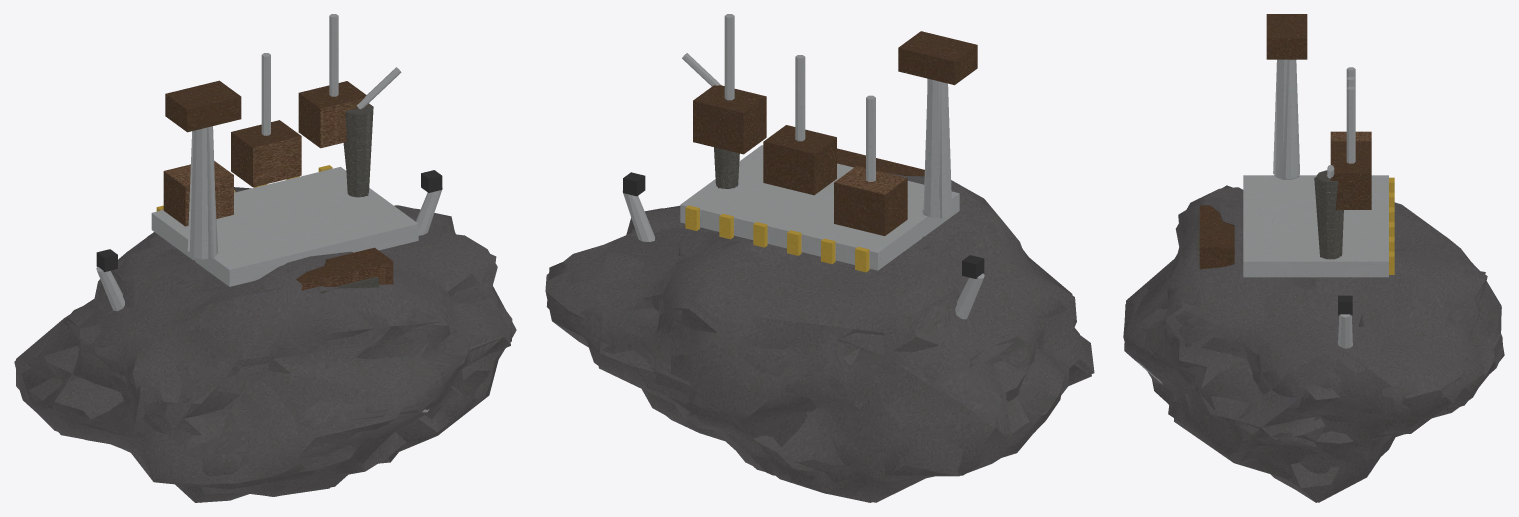
The model's file is sd_prop_lair.glb.
The picture shows the model from 3 angles, left to right: view 1: azimuth 30°, elevation 25°; view 2: azimuth 150°, elevation 25°; view 3: azimuth 270°, elevation 25°; orthographic projection. The views are drawn at different scales.
Visible parts, largest first — view 1: LOD0_body, LOD1_body; view 2: LOD0_body, LOD1_body; view 3: LOD0_body, LOD1_body.
Boxes of the visible parts, x1,y1,x2,y2 form: LOD0_body: (14, 14, 512, 502); LOD1_body: (16, 86, 516, 502); LOD0_body: (545, 14, 1094, 502); LOD1_body: (546, 79, 1091, 502); LOD0_body: (1123, 14, 1503, 502); LOD1_body: (1124, 59, 1504, 502).
Size of the model in its own units: 1 by 0.9114 by 0.7975.
Materials: 1 (1 with a texture image).
